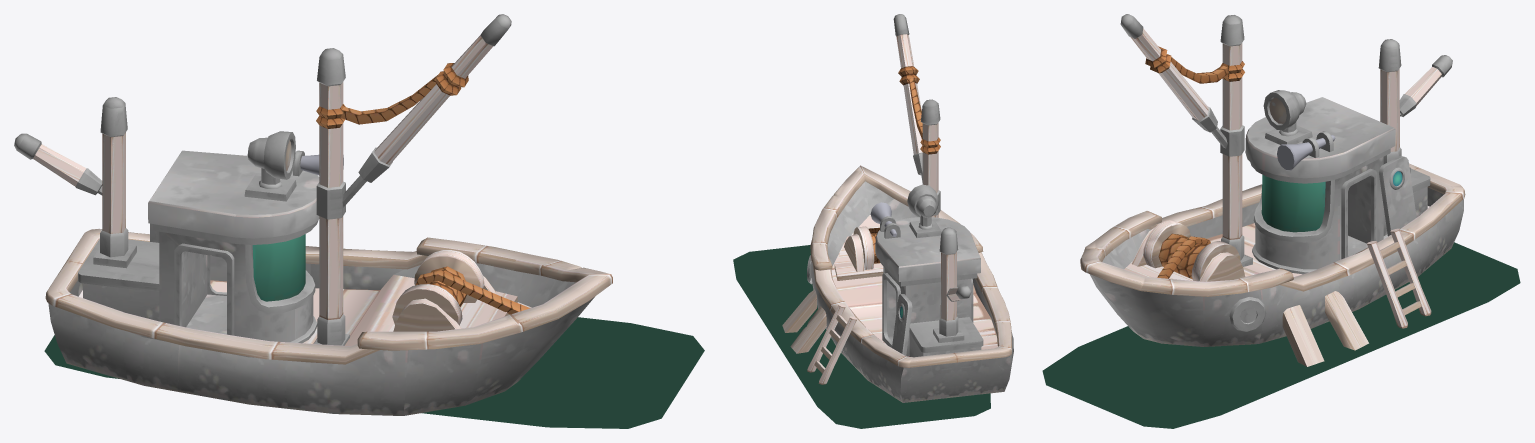
The model's file is Fisermanboat2 Variant.fbx.
3 renders of one model, left to right at view 1: azimuth 30°, elevation 25°; view 2: azimuth 150°, elevation 25°; view 3: azimuth 270°, elevation 25°, orthographic. The views are drawn at different scales.
Visible parts, largest first — view 1: Fisherman_boat, ShadowSquareDark2; view 2: Fisherman_boat, ShadowSquareDark2; view 3: Fisherman_boat, ShadowSquareDark2.
Part boxes in pixels (bbox=[...]): Fisherman_boat: bbox=[14, 14, 612, 415]; ShadowSquareDark2: bbox=[44, 317, 704, 428]; Fisherman_boat: bbox=[782, 14, 1013, 402]; ShadowSquareDark2: bbox=[733, 245, 990, 428]; Fisherman_boat: bbox=[1080, 14, 1465, 366]; ShadowSquareDark2: bbox=[1042, 242, 1520, 428].
Size of the model in its own units: 6.79 by 4.87 by 6.45.
3 materials, 2 textured.
